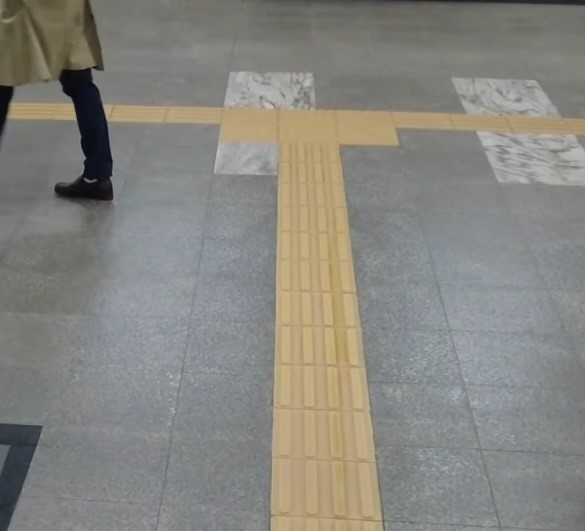guideBlock: (262, 398, 374, 466), (270, 452, 374, 521), (277, 290, 365, 342), (277, 259, 366, 309), (277, 367, 363, 413), (274, 327, 364, 369), (274, 230, 354, 271), (278, 184, 355, 215), (277, 208, 346, 242), (281, 164, 348, 190), (283, 147, 341, 172)
